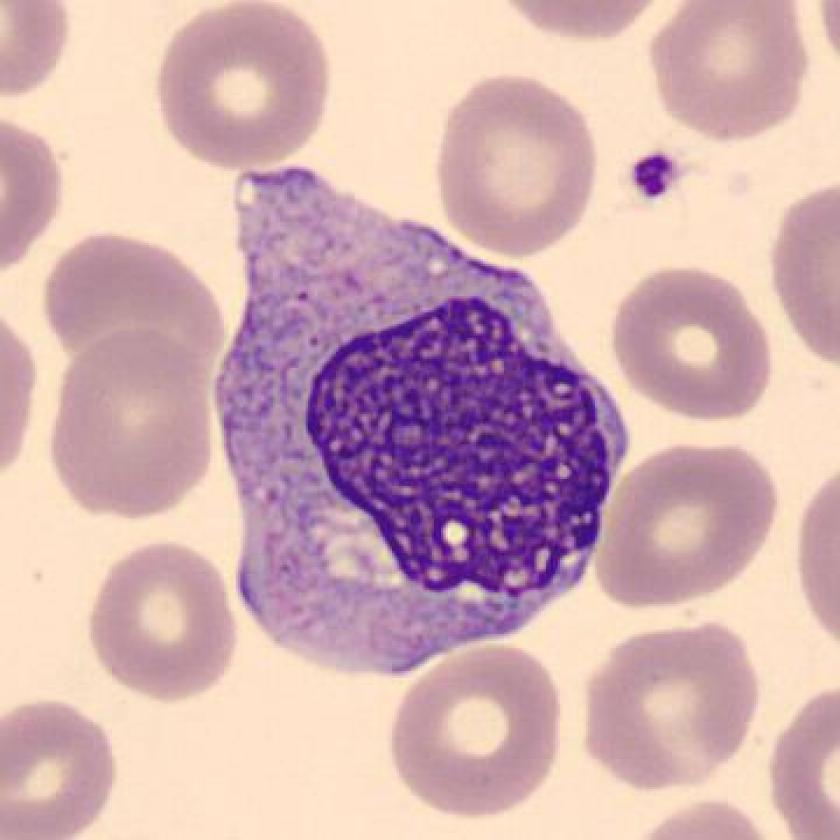monocyte: (195, 147, 647, 695)
